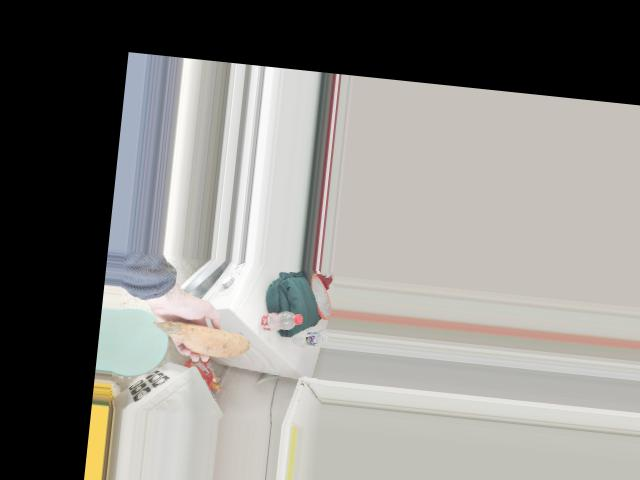sweet_potato: (139, 324, 247, 363)
